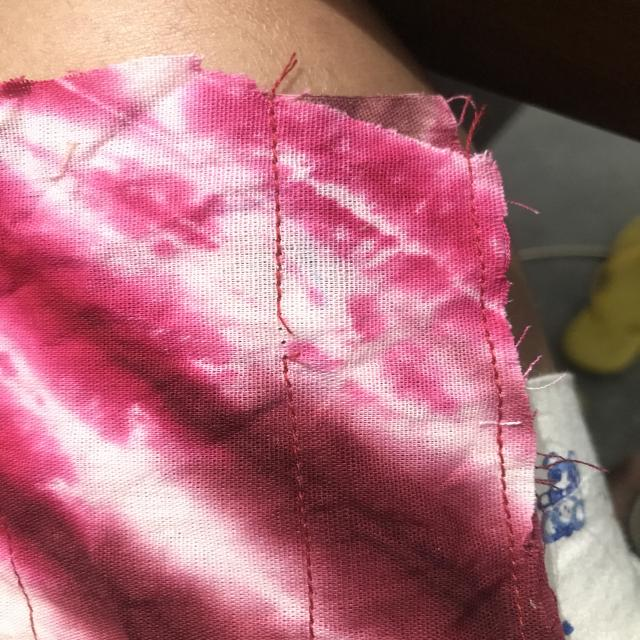broken: (256, 298, 315, 379)
good: (252, 176, 301, 278)
